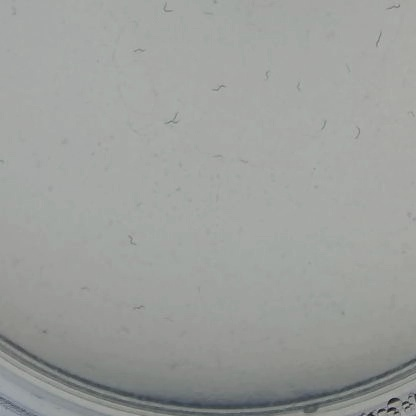worm: (363, 30, 394, 51), (227, 150, 256, 171), (342, 124, 366, 143), (378, 1, 403, 18), (210, 77, 231, 97), (164, 107, 185, 127), (8, 0, 28, 21), (204, 191, 225, 211), (128, 226, 143, 253), (117, 124, 140, 139), (203, 151, 224, 167), (128, 299, 150, 314), (313, 119, 331, 137), (159, 0, 176, 17), (263, 64, 276, 86), (76, 282, 94, 296), (198, 8, 217, 21), (129, 46, 149, 58), (339, 60, 354, 76), (402, 107, 416, 123), (296, 76, 306, 97)
